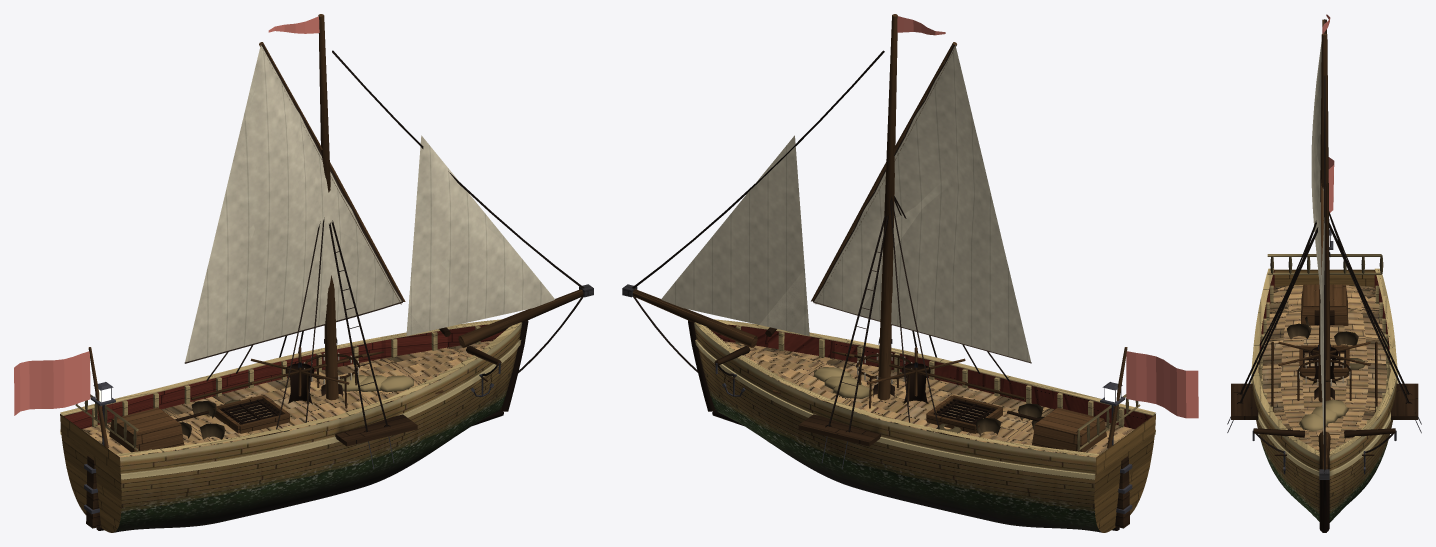
File: tartane.glb
3 renders of one model, left to right at view 1: azimuth 30°, elevation 25°; view 2: azimuth 150°, elevation 25°; view 3: azimuth 270°, elevation 25°, orthographic. The views are drawn at different scales.
Parts seen in each view (by area): view 1: LOD0_Body, LOD0_m0_AftSail, LOD0_Wood, LOD0_Jib, LOD2_Wood, LOD2_Body, LOD0_Flag, LOD1_m0_AftSail, LOD1_Wood, LOD2_m0_AftSail, LOD1_Jib, LOD1_Body (+2 smaller); view 2: LOD0_Body, LOD2_m0_AftSail, LOD0_Wood, LOD2_Jib, LOD2_Wood, LOD2_Body, LOD0_Flag, LOD0_m0_AftSail, LOD1_Wood, LOD1_m0_AftSail, LOD1_Body, LOD1_Jib (+1 smaller); view 3: LOD0_Wood, LOD2_Body, LOD0_Body, LOD2_Wood, LOD0_m0_AftSail, LOD1_Wood, LOD1_Body, LOD2_m0_AftYards, LOD0_Jib, LOD0_Flag, LOD1_m0_AftSail.
Part boxes in pixels (x1,y1,x2,y2): LOD0_Body: (60, 323, 522, 532); LOD0_m0_AftSail: (185, 45, 358, 362); LOD0_Wood: (60, 14, 593, 532); LOD0_Jib: (406, 135, 548, 335); LOD2_Wood: (60, 14, 580, 523); LOD2_Body: (60, 323, 521, 530); LOD0_Flag: (14, 16, 319, 415); LOD1_m0_AftSail: (186, 51, 401, 359); LOD1_Wood: (61, 14, 582, 532); LOD2_m0_AftSail: (186, 219, 401, 359); LOD1_Jib: (406, 193, 554, 334); LOD1_Body: (83, 324, 520, 531); LOD0_Body: (694, 246, 1155, 532); LOD2_m0_AftSail: (814, 45, 1030, 361); LOD0_Wood: (622, 14, 1155, 532); LOD2_Jib: (661, 135, 808, 335); LOD2_Wood: (634, 14, 1155, 517); LOD2_Body: (695, 323, 1155, 530); LOD0_Flag: (897, 16, 1198, 418); LOD0_m0_AftSail: (814, 85, 1031, 362); LOD1_Wood: (633, 14, 1153, 532); LOD1_m0_AftSail: (813, 61, 1030, 361); LOD1_Body: (694, 323, 1100, 531); LOD1_Jib: (759, 269, 809, 335); LOD0_Wood: (1231, 33, 1418, 532); LOD2_Body: (1253, 285, 1395, 522); LOD0_Body: (1227, 229, 1421, 521); LOD2_Wood: (1252, 33, 1396, 531); LOD0_m0_AftSail: (1311, 23, 1324, 276); LOD1_Wood: (1252, 33, 1396, 531); LOD1_Body: (1253, 290, 1396, 521); LOD2_m0_AftYards: (1323, 19, 1328, 359); LOD0_Jib: (1320, 217, 1324, 393); LOD0_Flag: (1322, 14, 1334, 212); LOD1_m0_AftSail: (1312, 136, 1323, 261).
Size of the model in its own units: 17.09 by 13.43 by 5.35.
Materials: 5 (3 with a texture image).
